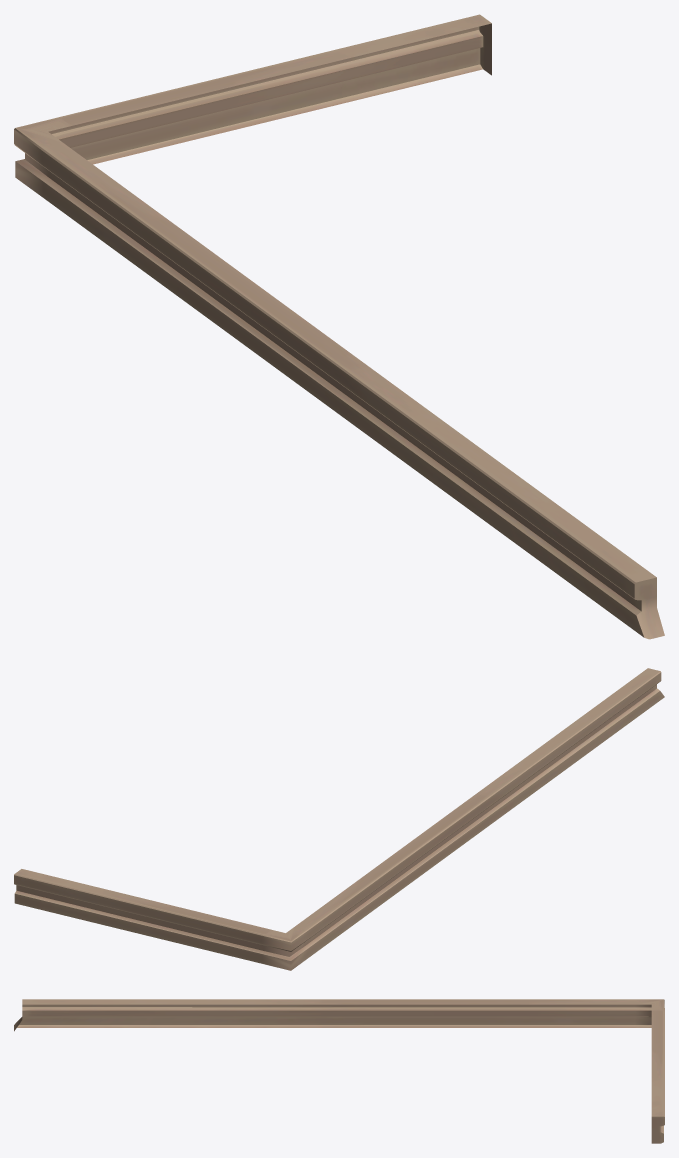
The model's file is wallPanel (3)-Merged.fbx.
3 views of the same model, one above another, from view 1: azimuth 30°, elevation 25°; view 2: azimuth 150°, elevation 25°; view 3: azimuth 270°, elevation 25° (orthographic). The views are drawn at different scales.
Visible parts, largest first — view 1: wallPanel (3)-Merged; view 2: wallPanel (3)-Merged; view 3: wallPanel (3)-Merged.
Part boxes in pixels (<box>): wallPanel (3)-Merged: <box>14,14,664,639</box>; wallPanel (3)-Merged: <box>14,668,664,970</box>; wallPanel (3)-Merged: <box>14,999,664,1143</box>.
Size of the model in its own units: 1681 by 181 by 3931.
Materials: 1 (1 with a texture image).
